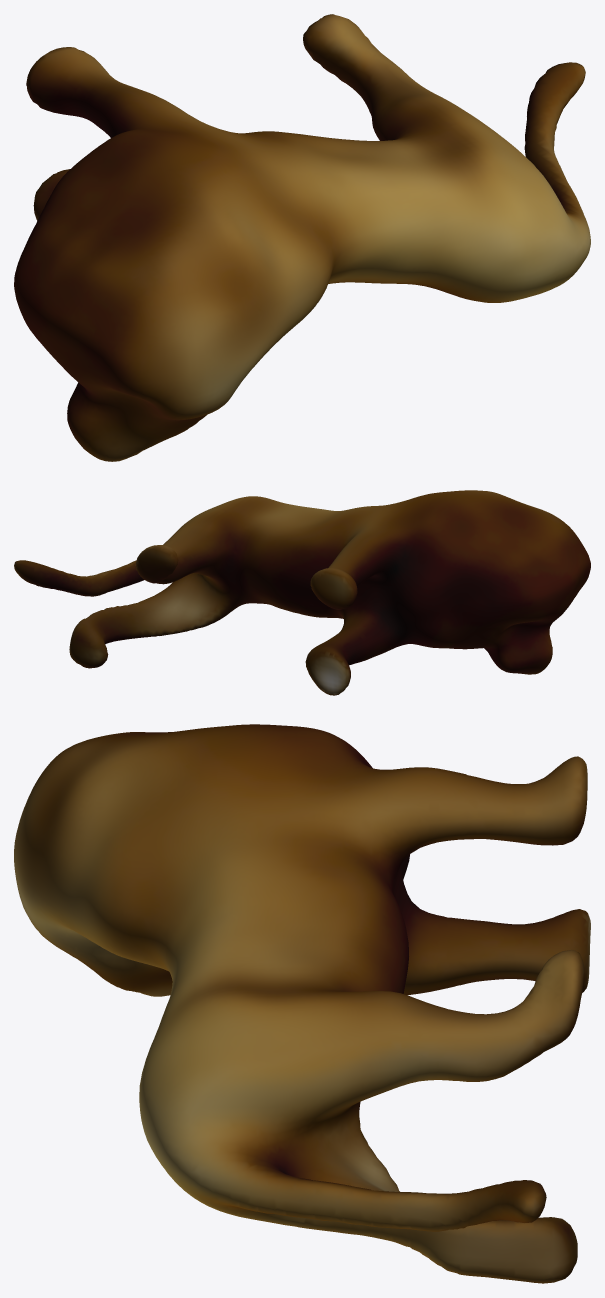
Rendered from lion.glb.
The picture shows the model from 3 angles, top to bottom: view 1: azimuth 30°, elevation 25°; view 2: azimuth 150°, elevation 25°; view 3: azimuth 270°, elevation 25°; orthographic projection. The views are drawn at different scales.
Size of the model in its own units: 0.9977 by 0.3633 by 0.6051.
